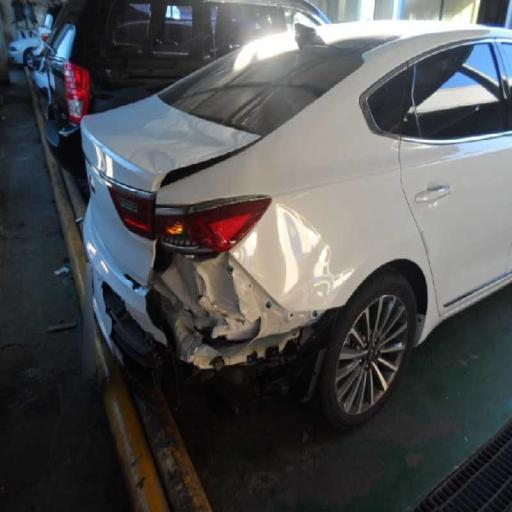broken: (113, 139, 333, 396)
